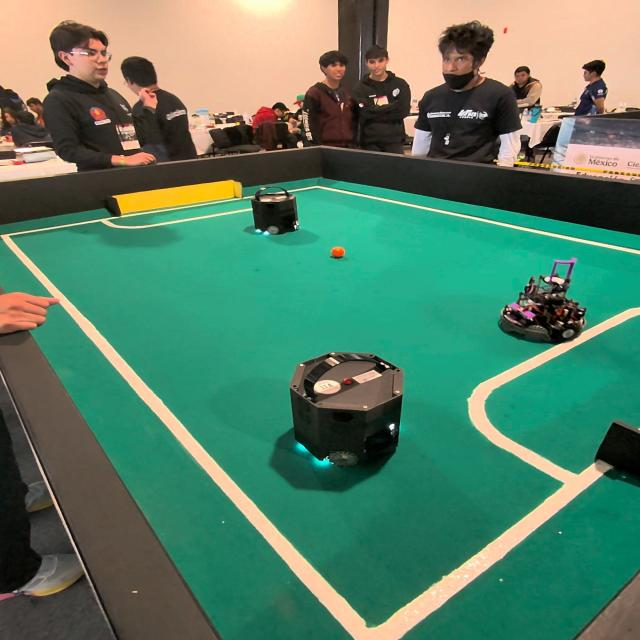Robot: (289, 336, 407, 494), (502, 260, 589, 349), (248, 185, 306, 246)
pelota: (332, 247, 345, 258)
